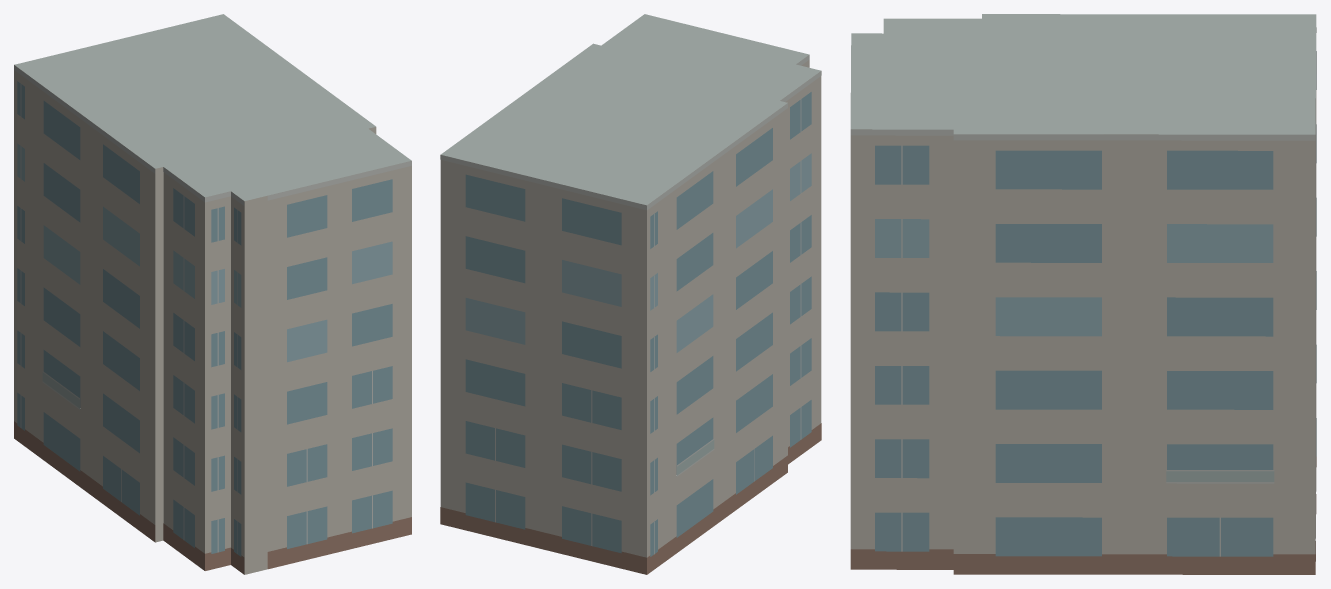
The model's file is survey-upis-32907121.glb.
3 renders of one model, left to right at view 1: azimuth 30°, elevation 25°; view 2: azimuth 150°, elevation 25°; view 3: azimuth 270°, elevation 25°, orthographic. The views are drawn at different scales.
Visible parts, largest first — view 1: survey-upis-32907121.tmp; view 2: survey-upis-32907121.tmp; view 3: survey-upis-32907121.tmp.
Part boxes in pixels (<box>): survey-upis-32907121.tmp: <box>14,14,411,574</box>; survey-upis-32907121.tmp: <box>440,14,821,574</box>; survey-upis-32907121.tmp: <box>850,14,1316,574</box>.
Size of the model in its own units: 10.57 by 17.9 by 17.18.
